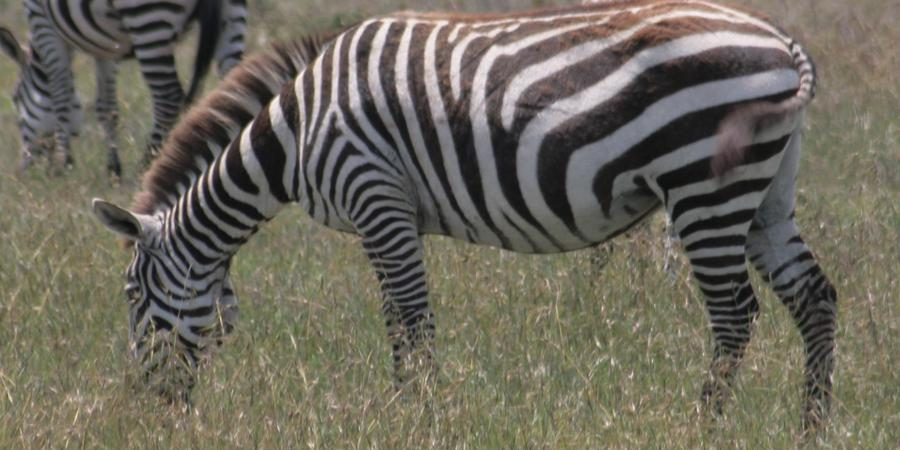zebra_plains: (289, 7, 768, 264)
